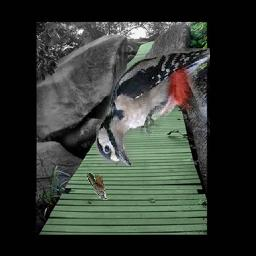Cuckoo: (87, 174, 110, 201)
Woodpecker: (96, 48, 210, 166)
